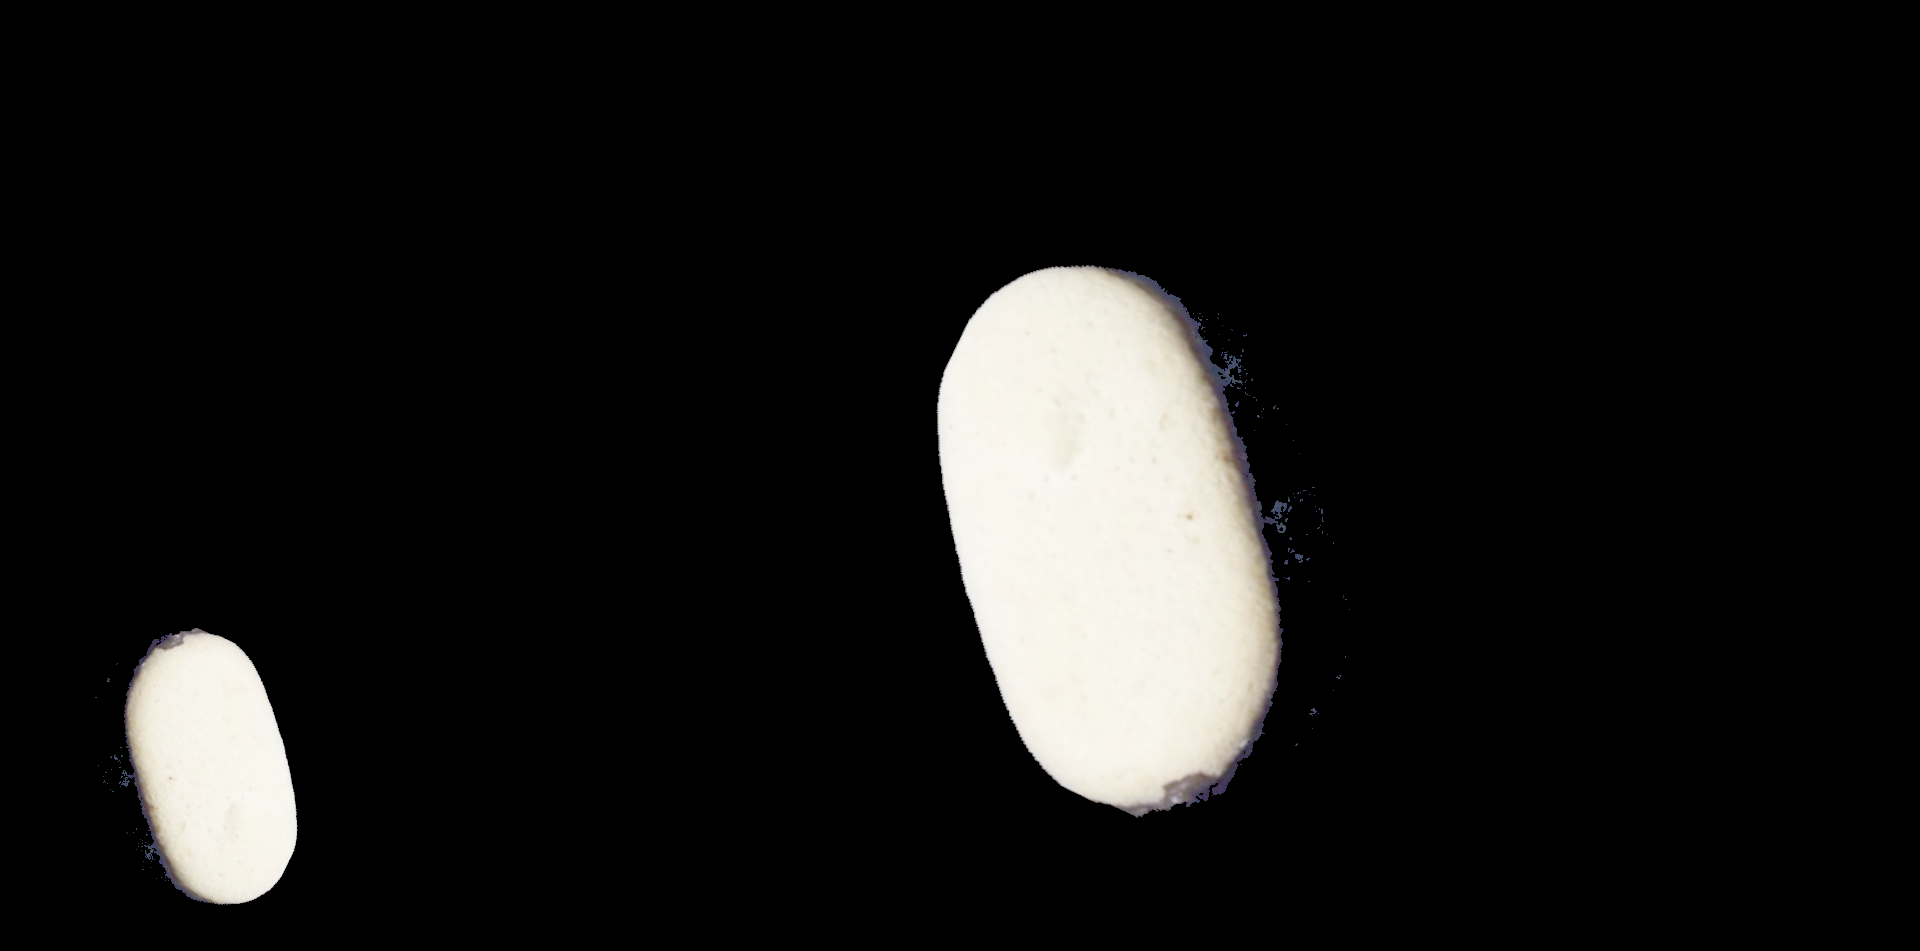test: (797, 204, 1469, 881), (29, 595, 367, 934)
